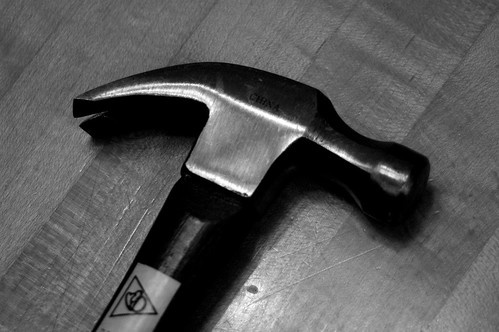hammer: (72, 62, 431, 332)
